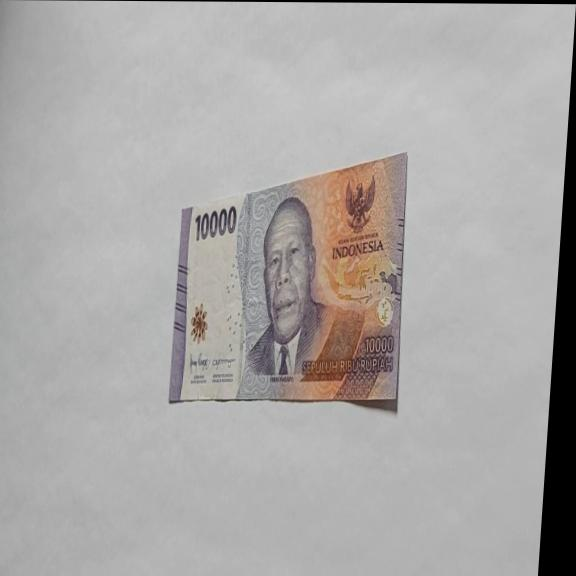Kertas: (167, 149, 415, 409), (192, 204, 238, 242)
